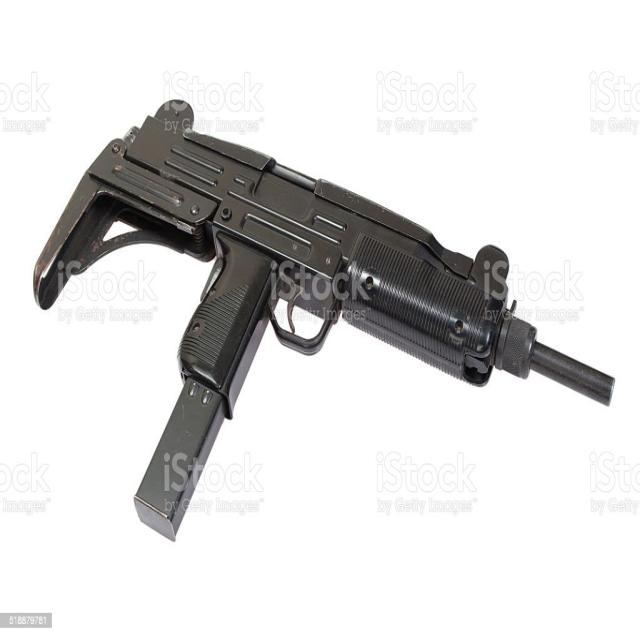SMG: (31, 100, 616, 544)
